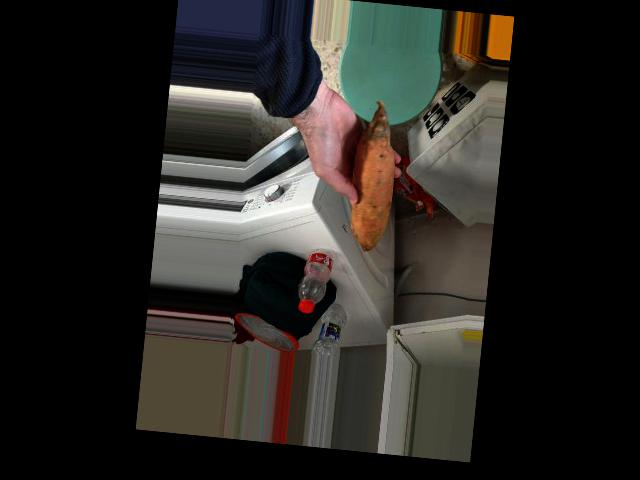sweet_potato: (349, 120, 392, 233)
